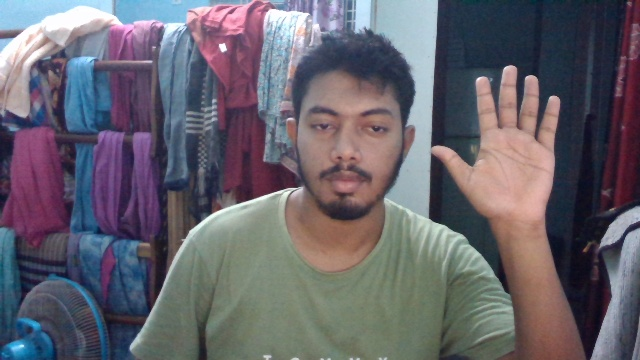hello: (427, 60, 565, 226)
